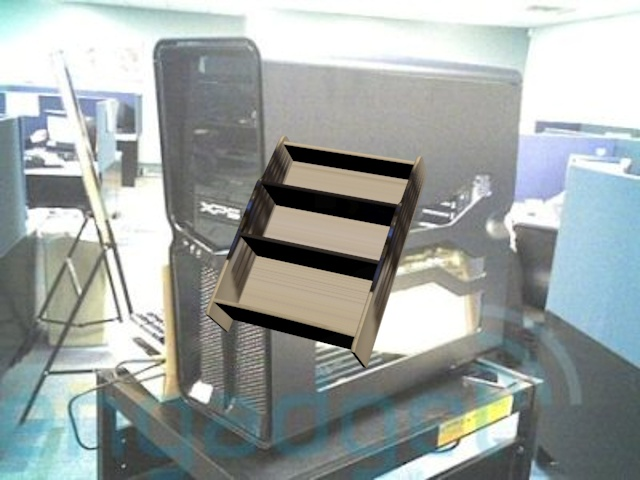bookcase: (193, 128, 432, 376)
